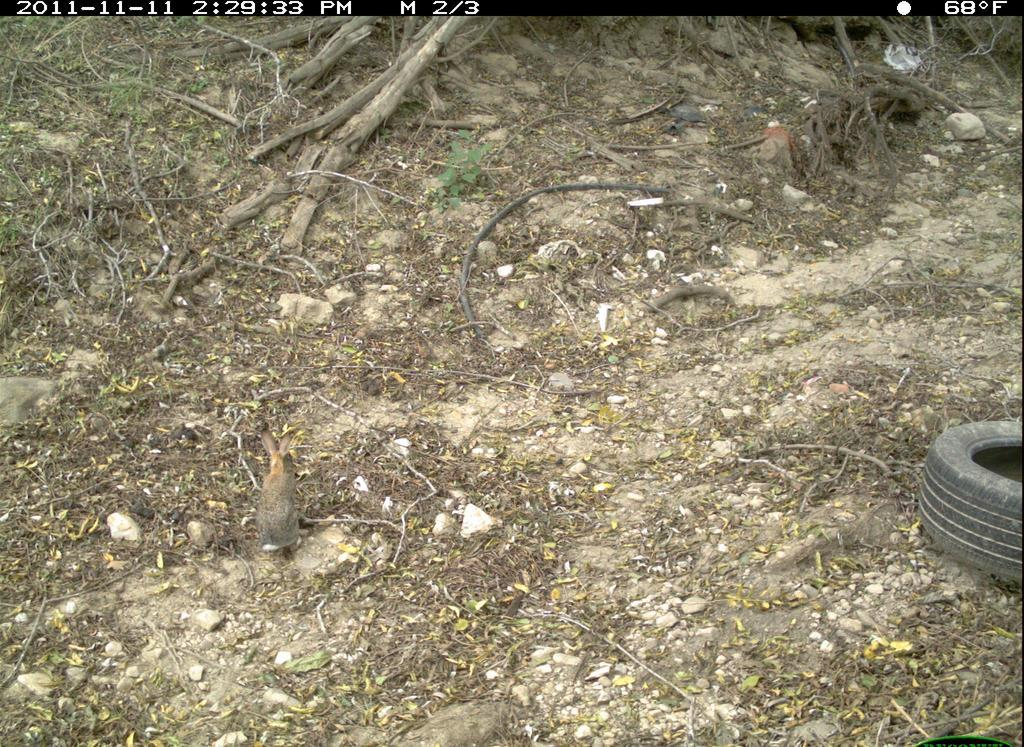rabbit: (239, 417, 319, 565)
